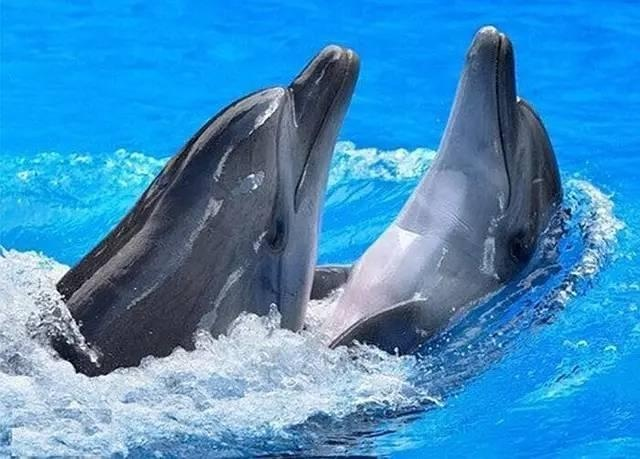fish: (1, 43, 370, 419), (294, 25, 576, 379)
